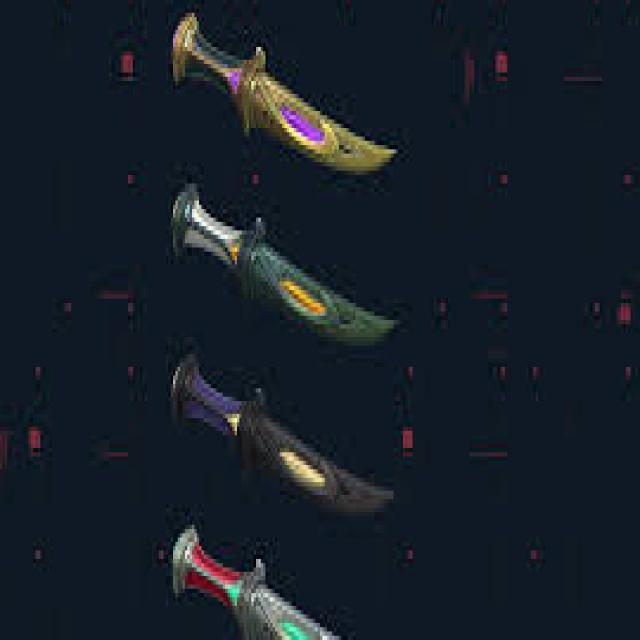Gun: (153, 7, 404, 187), (130, 372, 402, 512), (163, 195, 395, 342), (157, 520, 437, 640)
